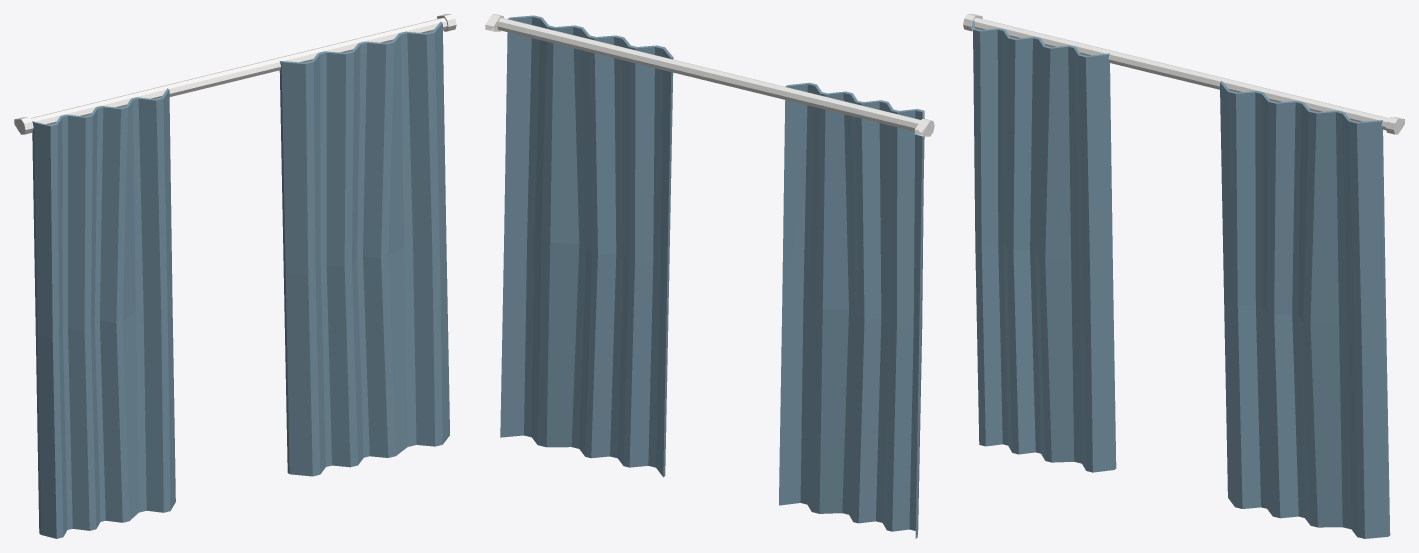
Rendered from Curtains_2_231109.glb.
The picture shows the model from 3 angles, left to right: view 1: azimuth 30°, elevation 25°; view 2: azimuth 150°, elevation 25°; view 3: azimuth 330°, elevation 25°; orthographic projection.
Visible parts, largest first — view 1: Curtains_2; view 2: Curtains_2; view 3: Curtains_2.
Part boxes in pixels (x1,y1,x2,y2): Curtains_2: (14,14,456,538); Curtains_2: (485,14,934,538); Curtains_2: (963,14,1404,538).
Size of the model in its own units: 4.07 by 3.76 by 0.3091.
1 material, 1 textured.
